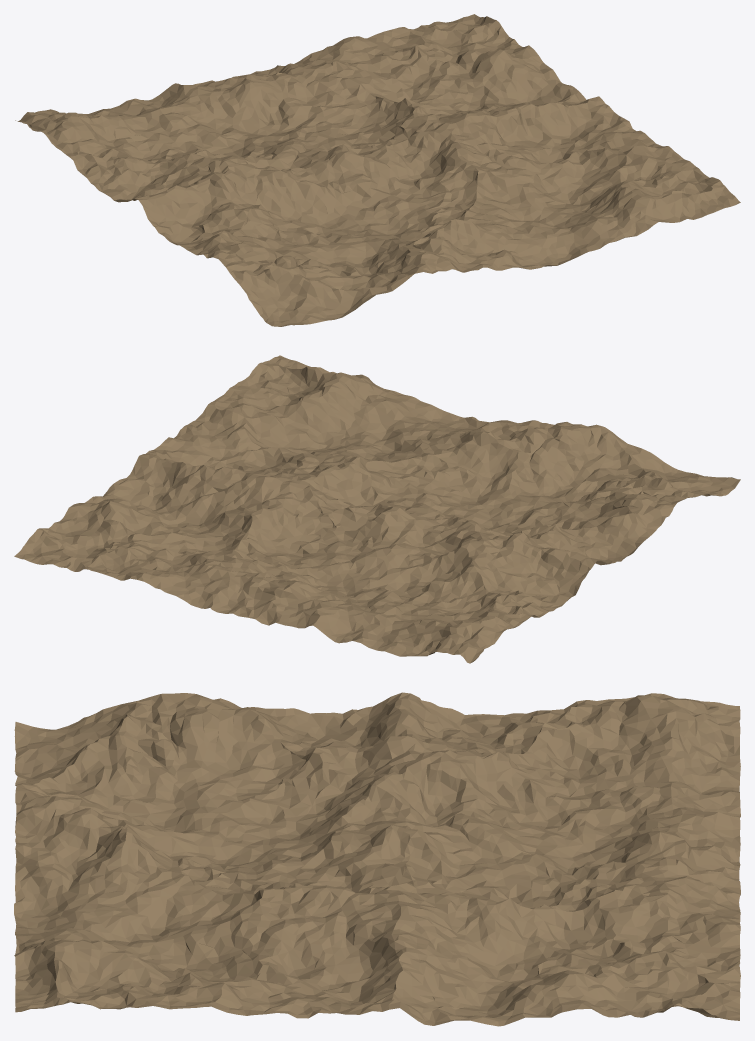
File: SmallGround03.fbx
The picture shows the model from 3 angles, top to bottom: view 1: azimuth 30°, elevation 25°; view 2: azimuth 150°, elevation 25°; view 3: azimuth 270°, elevation 25°; orthographic projection. The views are drawn at different scales.
Visible parts, largest first — view 1: SmallGround03; view 2: SmallGround03; view 3: SmallGround03.
Boxes of the visible parts, x1=… form: SmallGround03: x1=15, y1=14, x2=740, y2=326; SmallGround03: x1=14, y1=355, x2=740, y2=663; SmallGround03: x1=14, y1=692, x2=740, y2=1026.
Size of the model in its own units: 211 by 16.94 by 211.
